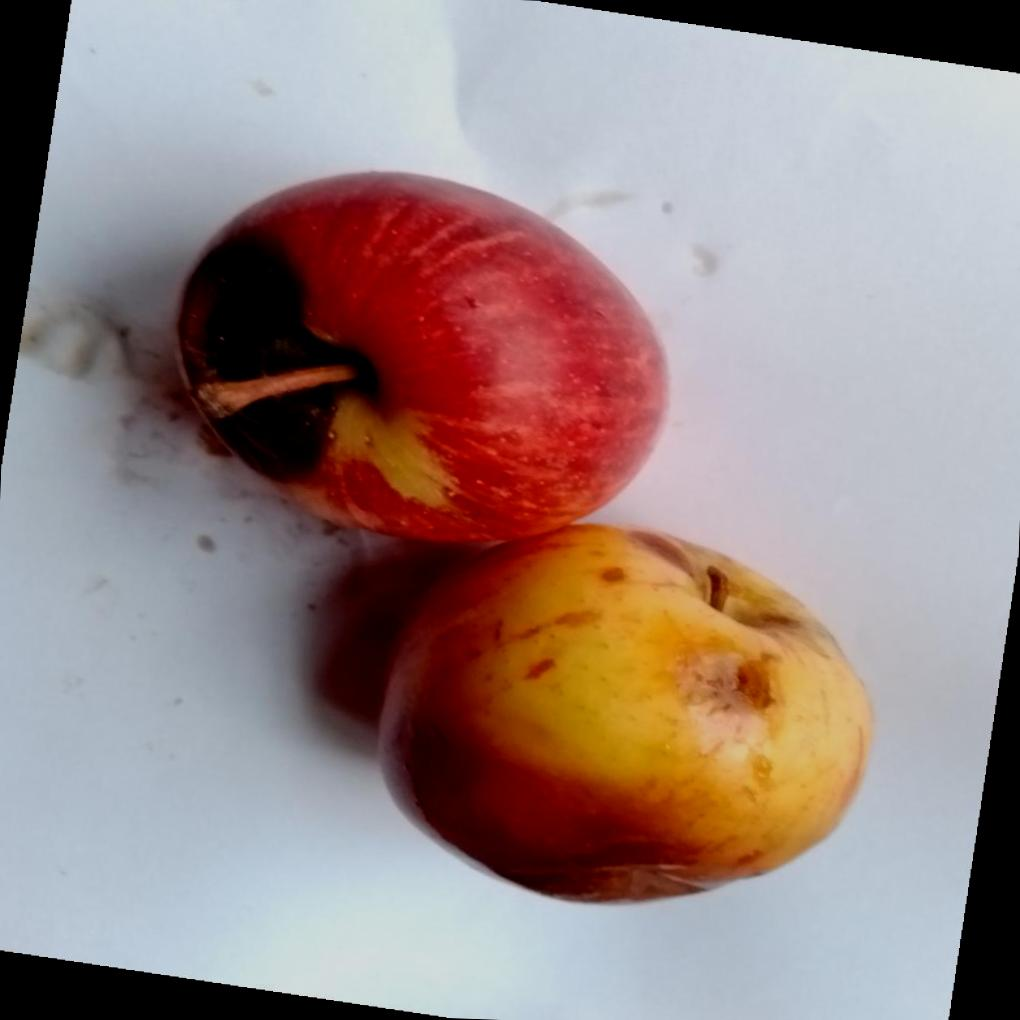FreshOrange: (175, 172, 871, 909)
